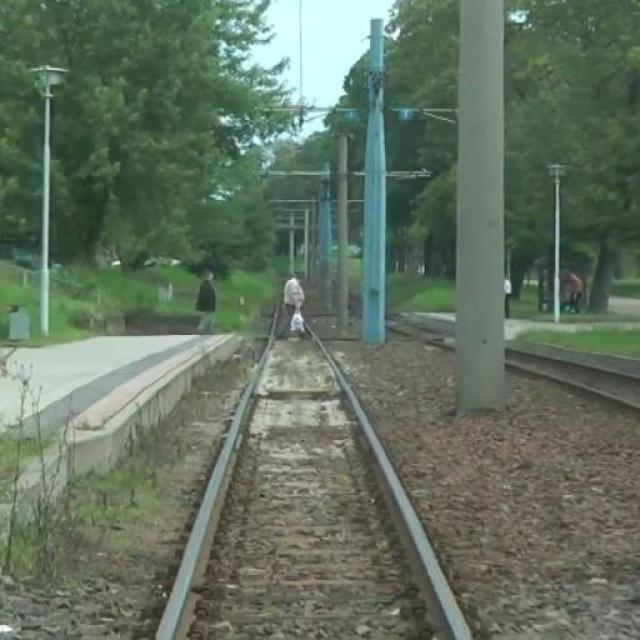people: (280, 270, 314, 336), (191, 269, 224, 329)
